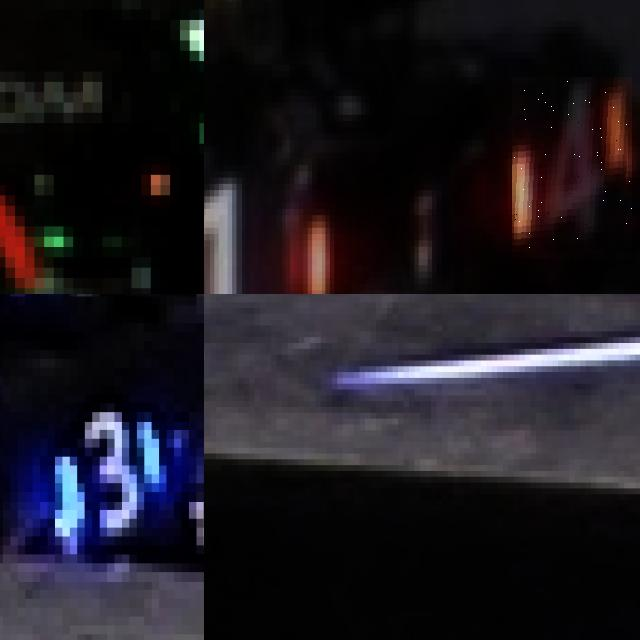B3: (47, 403, 166, 537)
R1: (204, 184, 338, 294)
R4: (512, 77, 632, 259)
